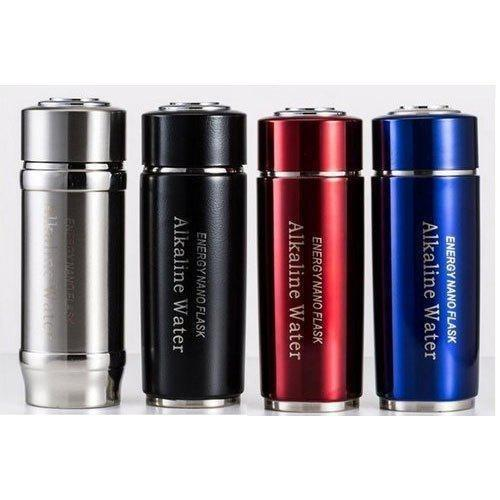gym bottle: (15, 94, 131, 412), (367, 103, 484, 415), (136, 98, 252, 411), (253, 105, 364, 415)
